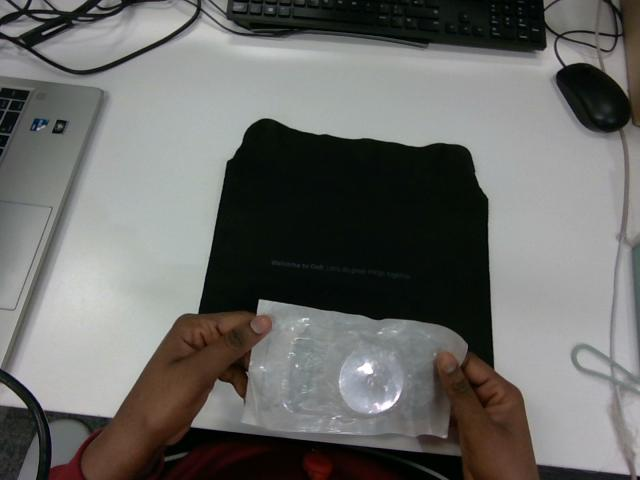gallipot: (242, 300, 466, 437)
